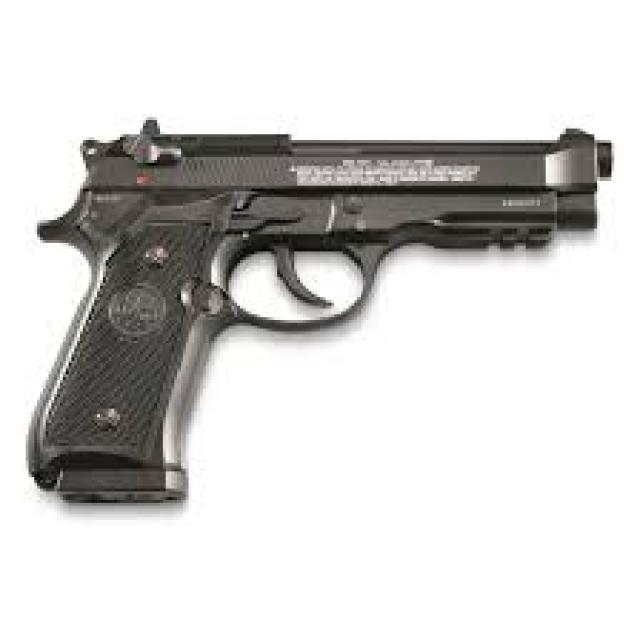pistol: (19, 111, 620, 510)
